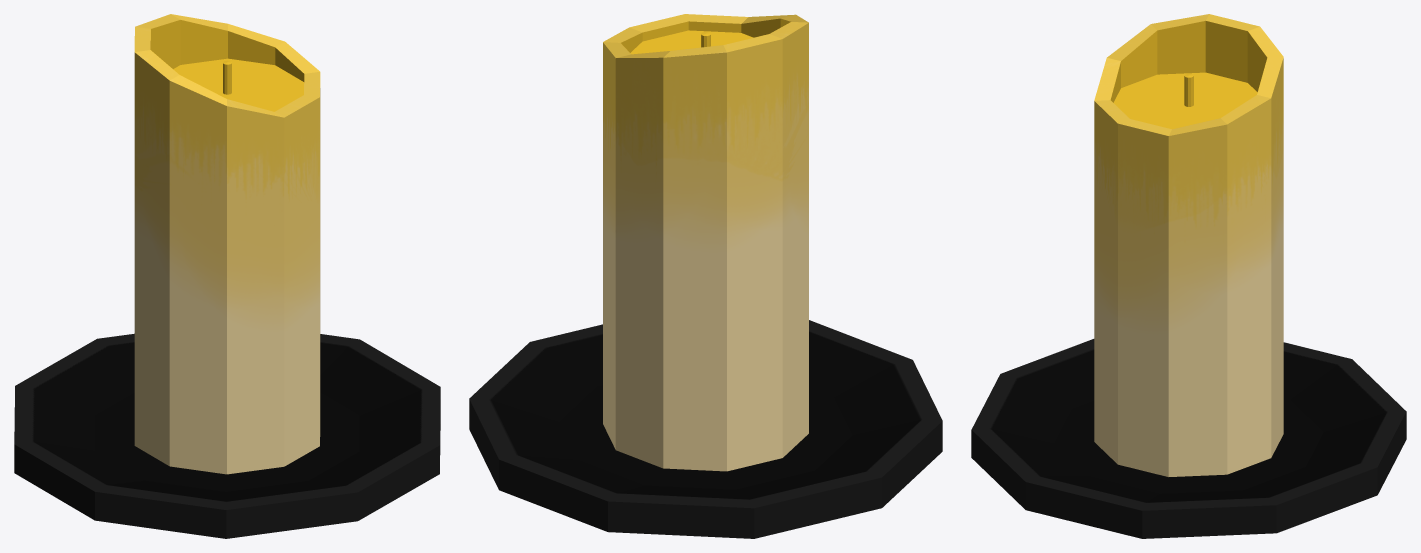
The model's file is Candle_v02.fbx.
The picture shows the model from 3 angles, left to right: view 1: azimuth 30°, elevation 25°; view 2: azimuth 150°, elevation 25°; view 3: azimuth 270°, elevation 25°; orthographic projection. The views are drawn at different scales.
Parts seen in each view (by area): view 1: Candle2; view 2: Candle2; view 3: Candle2.
Part boxes in pixels (<box>): Candle2: <box>14,14,440,538</box>; Candle2: <box>469,14,942,538</box>; Candle2: <box>971,14,1406,538</box>.
Size of the model in its own units: 39.75 by 44.75 by 40.49.
